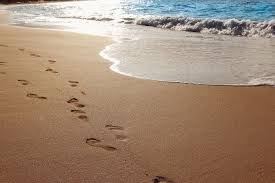human_footprint: (0, 75, 131, 167)
